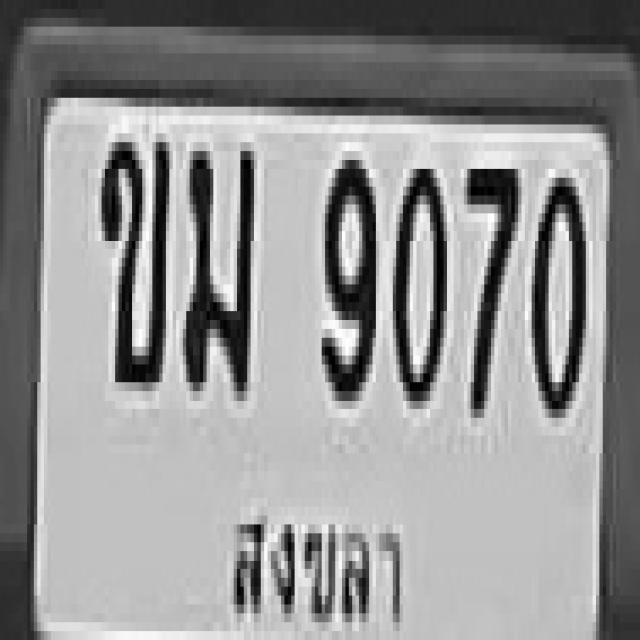0: (389, 160, 444, 400), (528, 169, 582, 409)
11KhorKhai: (98, 125, 166, 382)
42MorMa: (180, 133, 250, 391)
7: (464, 160, 515, 409)
9: (318, 151, 372, 391)
Songkhla: (218, 486, 413, 634)
